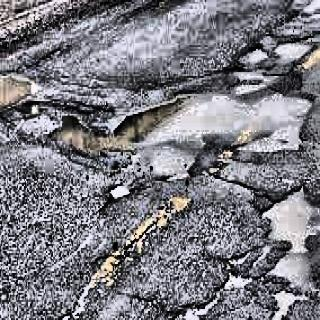crack: (175, 256, 250, 320)
pothole: (55, 86, 318, 176), (253, 175, 320, 318), (0, 71, 39, 109), (271, 38, 314, 64), (243, 41, 269, 68)
